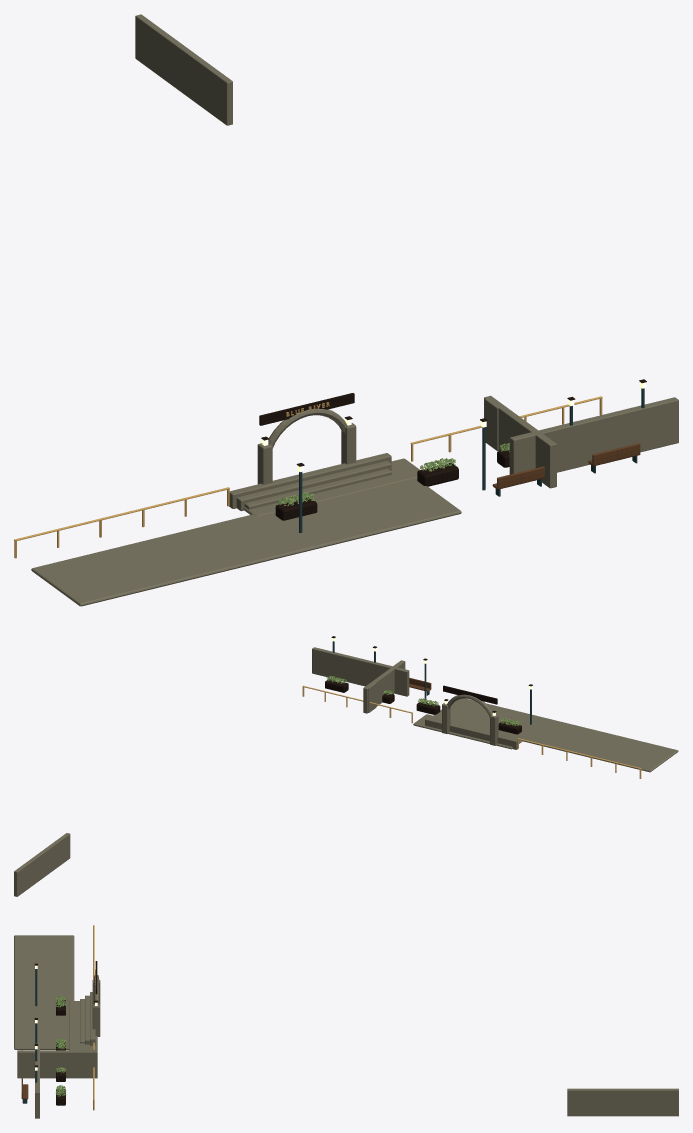
The model's file is riverwalk_static.glb.
The picture shows the model from 3 angles, top to bottom: view 1: azimuth 30°, elevation 25°; view 2: azimuth 150°, elevation 25°; view 3: azimuth 270°, elevation 25°; orthographic projection. The views are drawn at different scales.
Visible parts, largest first — view 1: VIS_Riverwalk_Promenade, VIS_Shore_south_hide_wall_ew, VIS_Shore_east_hide_wall, VIS_Shore_south_hide_wall_ns, VIS_Garden_ShoreJoinery, VIS_Riverwalk_Terrace, VIS_EntranceStep_02, VIS_EntranceStep_01, VIS_EntranceStep_00; view 2: VIS_Riverwalk_Promenade, VIS_Shore_south_hide_wall_ew, VIS_Shore_east_hide_wall, VIS_Garden_ShoreJoinery, VIS_EntranceStep_02, VIS_Shore_south_hide_wall_ns, VIS_Riverwalk_Terrace; view 3: VIS_Riverwalk_Promenade, VIS_Shore_east_hide_wall, VIS_Shore_south_hide_wall_ns, VIS_Riverwalk_Terrace, VIS_Garden_ShoreJoinery, VIS_Shore_south_hide_wall_ew.
Part boxes in pixels (x1,y1,x2,y2): VIS_Riverwalk_Promenade: [31, 478, 461, 606]; VIS_Shore_south_hide_wall_ew: [509, 397, 678, 474]; VIS_Shore_east_hide_wall: [135, 14, 232, 125]; VIS_Shore_south_hide_wall_ns: [484, 395, 556, 488]; VIS_Garden_ShoreJoinery: [259, 379, 646, 505]; VIS_Riverwalk_Terrace: [243, 458, 419, 516]; VIS_EntranceStep_02: [229, 453, 391, 508]; VIS_EntranceStep_01: [236, 461, 391, 511]; VIS_EntranceStep_00: [244, 468, 391, 509]; VIS_Riverwalk_Promenade: [433, 698, 678, 772]; VIS_Shore_south_hide_wall_ew: [312, 647, 409, 696]; VIS_Shore_east_hide_wall: [14, 833, 70, 896]; VIS_Garden_ShoreJoinery: [326, 636, 532, 726]; VIS_EntranceStep_02: [425, 717, 518, 749]; VIS_Shore_south_hide_wall_ns: [363, 660, 405, 713]; VIS_Riverwalk_Terrace: [413, 714, 523, 749]; VIS_Riverwalk_Promenade: [14, 935, 74, 1049]; VIS_Shore_east_hide_wall: [567, 1088, 678, 1116]; VIS_Shore_south_hide_wall_ns: [17, 1050, 97, 1078]; VIS_Riverwalk_Terrace: [68, 1001, 97, 1050]; VIS_Garden_ShoreJoinery: [34, 961, 98, 1096]; VIS_Shore_south_hide_wall_ew: [35, 1043, 39, 1118].
Bounding box in the file's own units: 38.7 × 4.9 × 59.5.
Materials: 10 (3 with a texture image).
